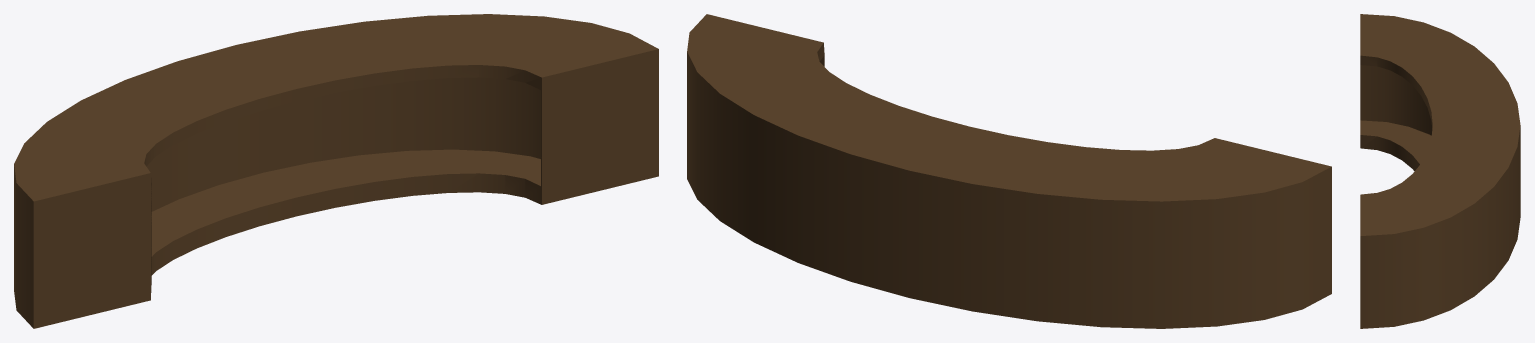
The model's file is stol.fbx.
3 views of the same model, side by side, from view 1: azimuth 30°, elevation 25°; view 2: azimuth 150°, elevation 25°; view 3: azimuth 270°, elevation 25° (orthographic). The views are drawn at different scales.
Visible parts, largest first — view 1: Cylinder; view 2: Cylinder; view 3: Cylinder.
Part boxes in pixels (x1,y1,x2,y2): Cylinder: (14, 14, 658, 328); Cylinder: (687, 14, 1331, 328); Cylinder: (1360, 14, 1520, 328).
Size of the model in its own units: 335 by 65.36 by 102.
